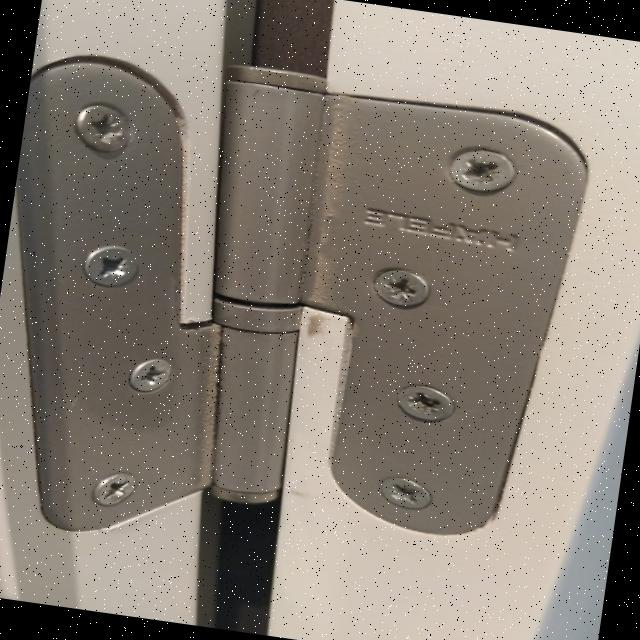Pozidriv: (66, 99, 144, 162), (72, 240, 150, 294), (370, 468, 440, 518), (115, 353, 187, 401), (448, 148, 514, 194), (365, 266, 436, 308), (81, 469, 146, 514), (393, 384, 458, 426)
